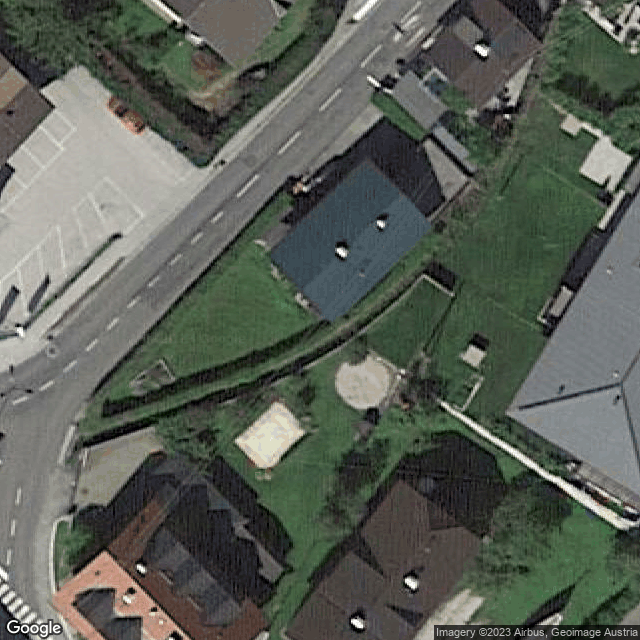dormer: (142, 528, 190, 570), (72, 590, 114, 632), (174, 557, 218, 596), (202, 587, 244, 627), (100, 616, 142, 640)
hip: (427, 500, 462, 532)
obstacles: (403, 572, 421, 593), (348, 614, 367, 633), (473, 42, 492, 59), (121, 592, 136, 608), (373, 218, 388, 231), (135, 562, 149, 575), (336, 244, 349, 258), (164, 634, 180, 640)
ridge: (301, 196, 403, 292), (344, 532, 430, 640), (104, 552, 190, 639), (452, 23, 517, 86), (619, 357, 639, 388), (187, 3, 208, 26), (1, 67, 14, 84)
roof: (505, 189, 640, 494), (283, 480, 484, 640), (47, 499, 272, 640), (266, 158, 433, 324), (421, 1, 542, 110), (160, 1, 288, 70), (1, 53, 57, 171)
valley: (506, 387, 620, 413), (620, 386, 639, 465)
